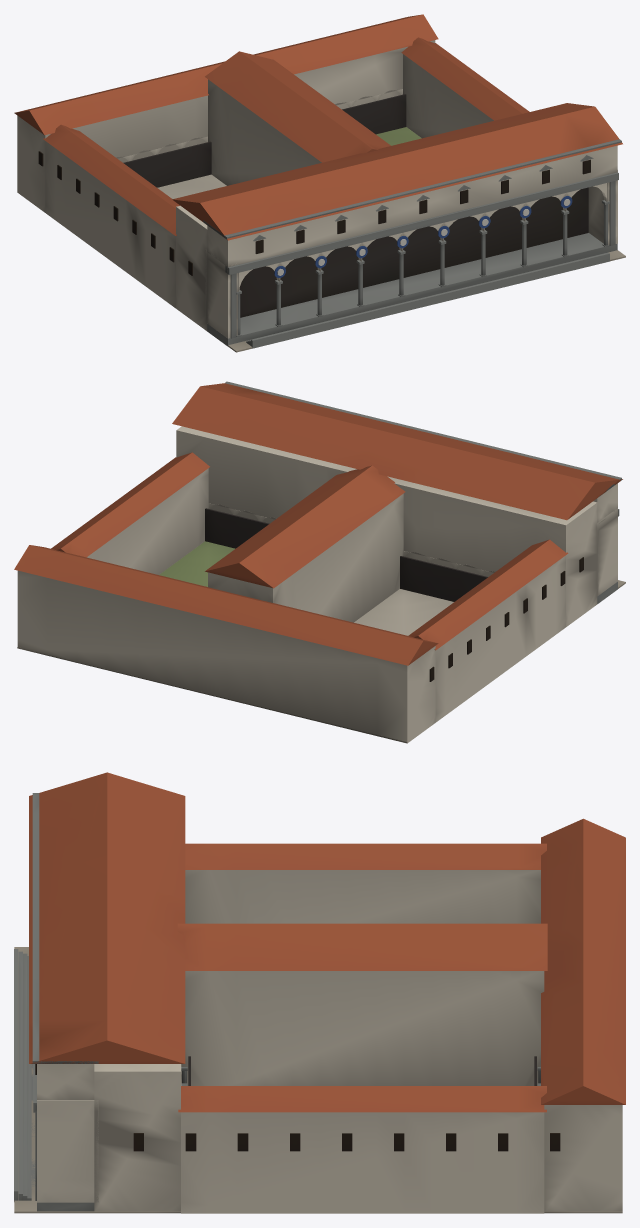
Rendered from innocenti.glb.
3 renders of one model, top to bottom at view 1: azimuth 30°, elevation 25°; view 2: azimuth 150°, elevation 25°; view 3: azimuth 270°, elevation 25°, orthographic. The views are drawn at different scales.
Parts seen in each view (by area): view 1: p2_hospital, p1_loggia, p0_steps; view 2: p2_hospital, p1_loggia, p0_steps; view 3: p2_hospital, p1_loggia, p0_steps.
Boxes of the visible parts, bbox=[...] form: p2_hospital: bbox=[14, 14, 622, 331]; p1_loggia: bbox=[203, 139, 621, 338]; p0_steps: bbox=[207, 233, 625, 352]; p2_hospital: bbox=[14, 383, 622, 743]; p1_loggia: bbox=[225, 381, 621, 596]; p0_steps: bbox=[17, 580, 625, 743]; p2_hospital: bbox=[29, 772, 625, 1213]; p1_loggia: bbox=[32, 793, 98, 1202]; p0_steps: bbox=[14, 947, 622, 1213].
Size of the model in its own units: 73 by 22.23 by 70.43.
